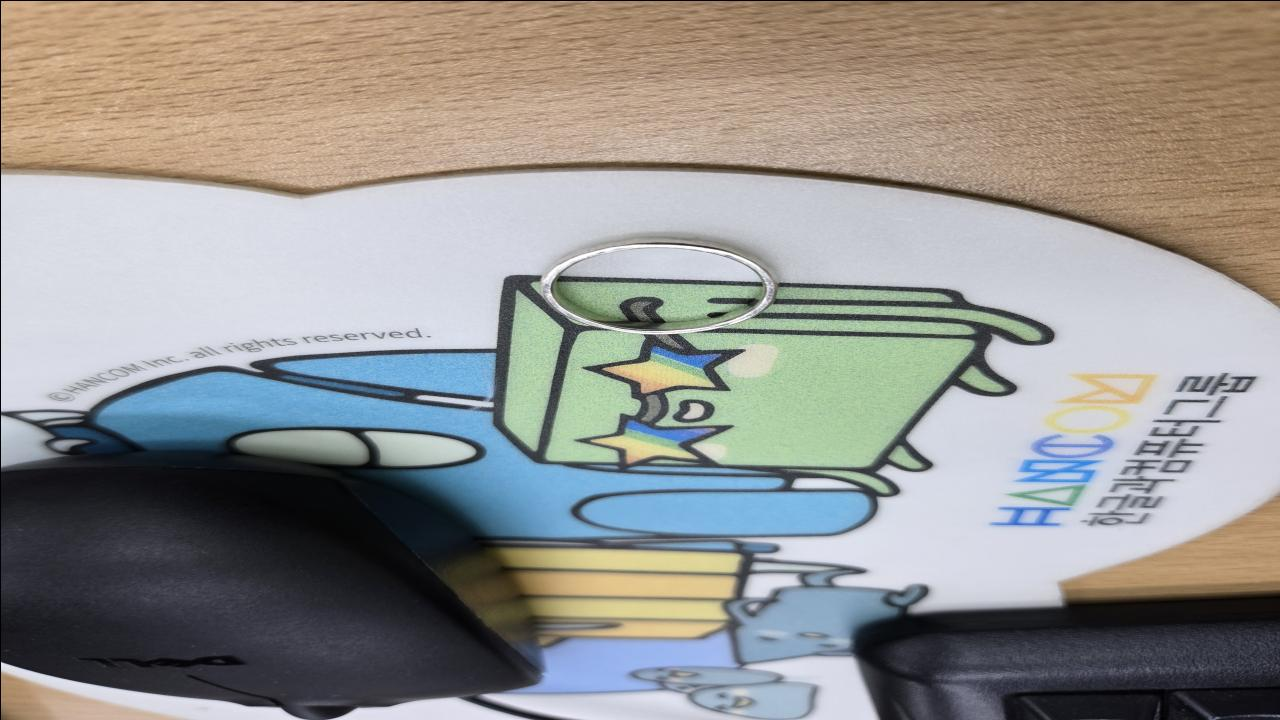ring: (540, 236, 776, 333)
